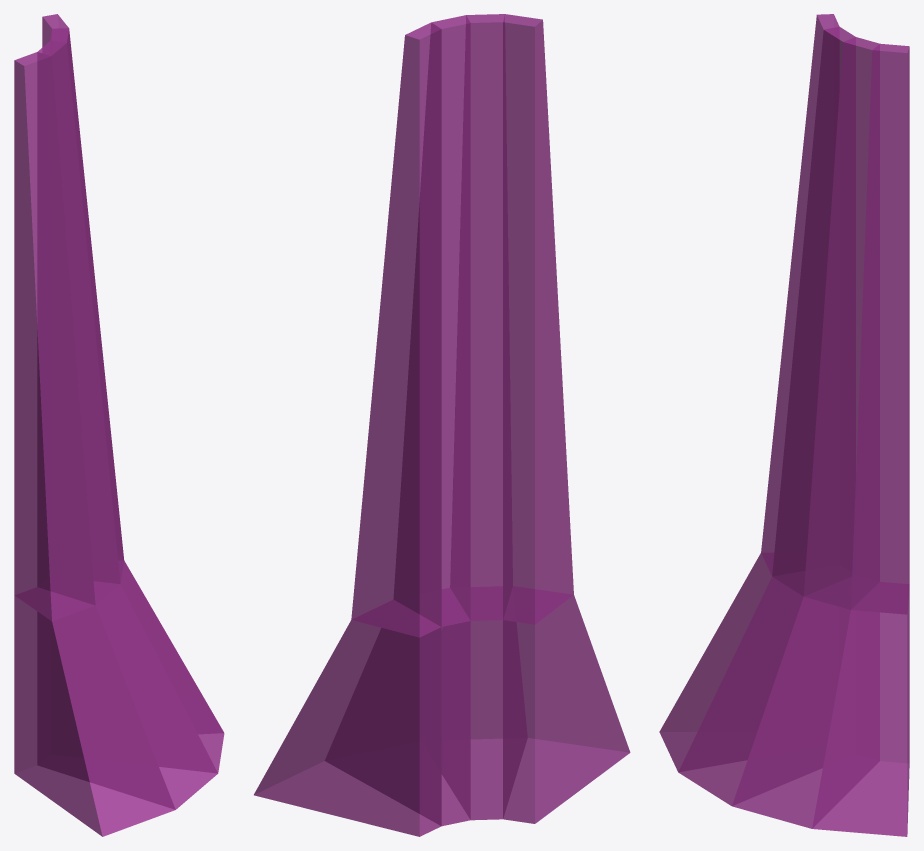
Rendered from SM_Bld_Wall_Fort_L_Round_02_Collision.fbx.
The picture shows the model from 3 angles, left to right: view 1: azimuth 30°, elevation 25°; view 2: azimuth 150°, elevation 25°; view 3: azimuth 270°, elevation 25°; orthographic projection. The views are drawn at different scales.
Visible parts, largest first — view 1: SM_Bld_Wall_Fort_L_Round_02_Collision; view 2: SM_Bld_Wall_Fort_L_Round_02_Collision; view 3: SM_Bld_Wall_Fort_L_Round_02_Collision.
Part boxes in pixels (x1,y1,x2,y2): SM_Bld_Wall_Fort_L_Round_02_Collision: (14, 14, 224, 836); SM_Bld_Wall_Fort_L_Round_02_Collision: (254, 14, 630, 836); SM_Bld_Wall_Fort_L_Round_02_Collision: (659, 14, 909, 836).
Size of the model in its own units: 758 by 2400 by 759.
